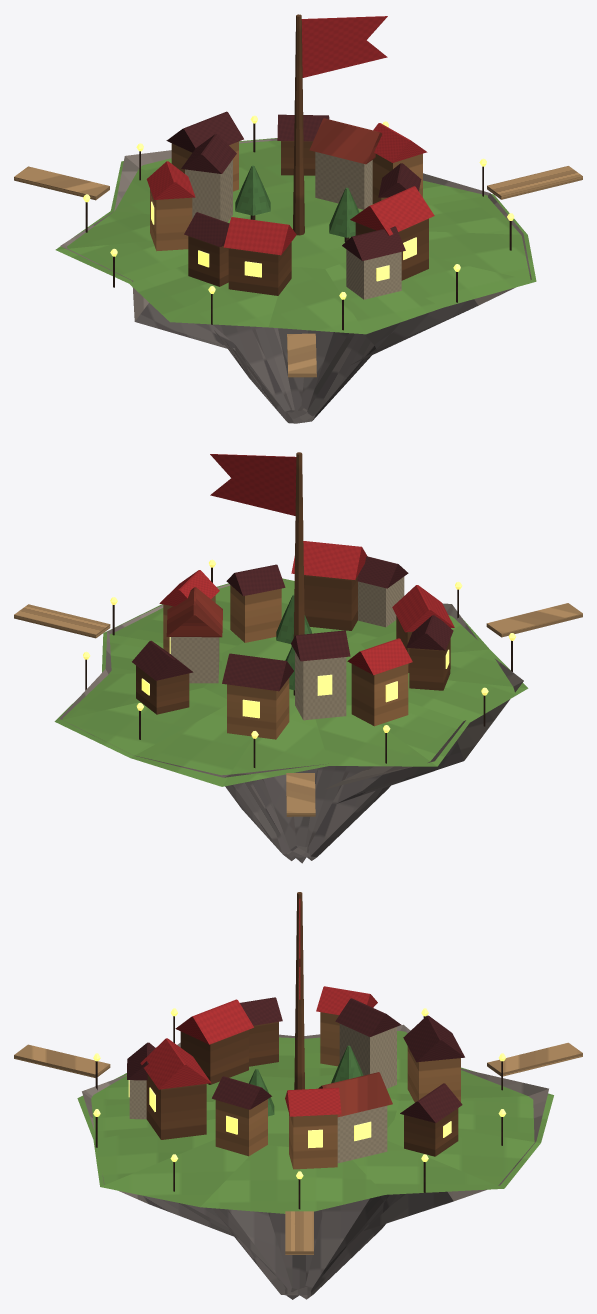
Rendered from SM_Env_FreeHaven_HQ.glb.
The picture shows the model from 3 angles, top to bottom: view 1: azimuth 30°, elevation 25°; view 2: azimuth 150°, elevation 25°; view 3: azimuth 270°, elevation 25°; orthographic projection.
Parts seen in each view (by area): view 1: SM_Env_FreeHaven_HQ; view 2: SM_Env_FreeHaven_HQ; view 3: SM_Env_FreeHaven_HQ.
Boxes of the visible parts, left/top/right/bottom form: SM_Env_FreeHaven_HQ: left=14, top=14, right=582, bottom=423; SM_Env_FreeHaven_HQ: left=14, top=452, right=582, bottom=863; SM_Env_FreeHaven_HQ: left=14, top=892, right=582, bottom=1299.
Bounding box in the file's own units: 26.34 × 21.7 × 27.76.
Materials: 1 (1 with a texture image).
